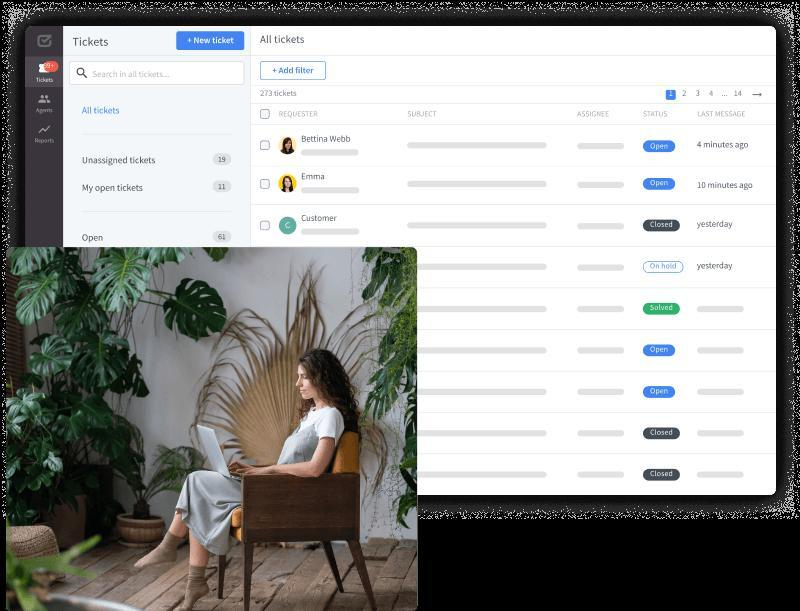button: (177, 32, 246, 52), (261, 63, 327, 81), (27, 58, 64, 88)
checkbox: (260, 140, 272, 152), (261, 179, 273, 191), (260, 220, 272, 232), (260, 109, 271, 121)
icon: (35, 31, 59, 52), (35, 94, 56, 109), (38, 124, 53, 136), (752, 90, 764, 100)
input: (69, 61, 245, 86)
label: (77, 153, 167, 171), (81, 182, 149, 199), (259, 33, 310, 48), (298, 133, 357, 145), (74, 36, 114, 51), (76, 233, 115, 247), (302, 213, 341, 226), (300, 169, 329, 184), (33, 136, 59, 147), (35, 108, 58, 117)
